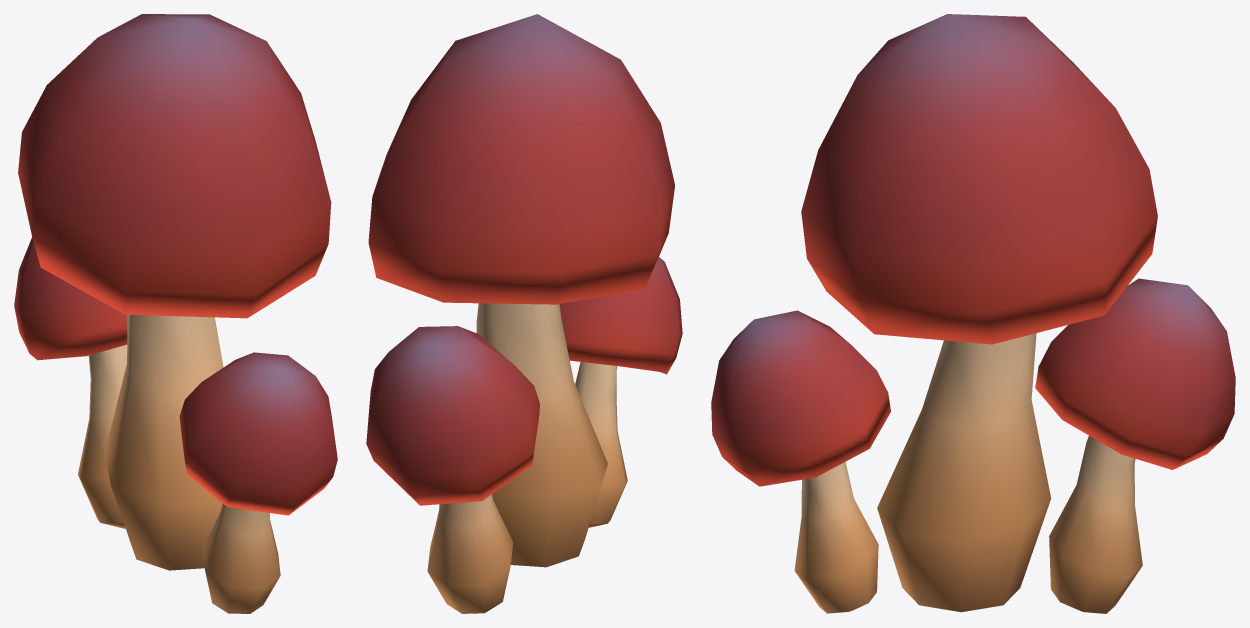
The model's file is mushrooms.fbx.
3 views of the same model, side by side, from view 1: azimuth 30°, elevation 25°; view 2: azimuth 150°, elevation 25°; view 3: azimuth 270°, elevation 25° (orthographic). The views are drawn at different scales.
Parts seen in each view (by area): view 1: mushrooms; view 2: mushrooms; view 3: mushrooms.
Boxes of the visible parts, left/top/right/bottom form: mushrooms: left=14, top=14, right=337, bottom=613; mushrooms: left=366, top=14, right=682, bottom=613; mushrooms: left=711, top=14, right=1235, bottom=613.
Bounding box in the file's own units: 385 × 729 × 580.
Materials: 1 (1 with a texture image).
